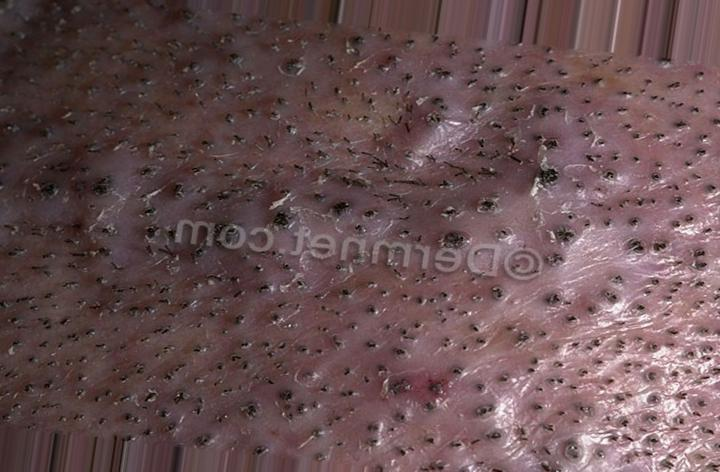Folliculitis: (290, 69, 606, 209)
